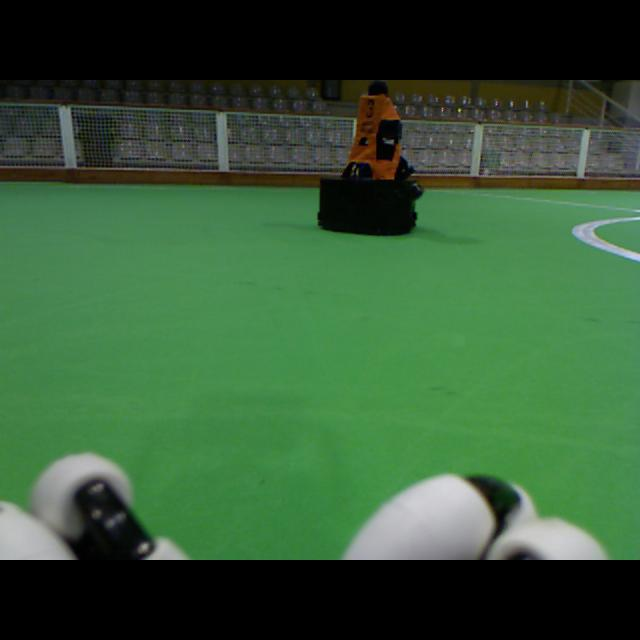robot: (319, 80, 424, 235)
